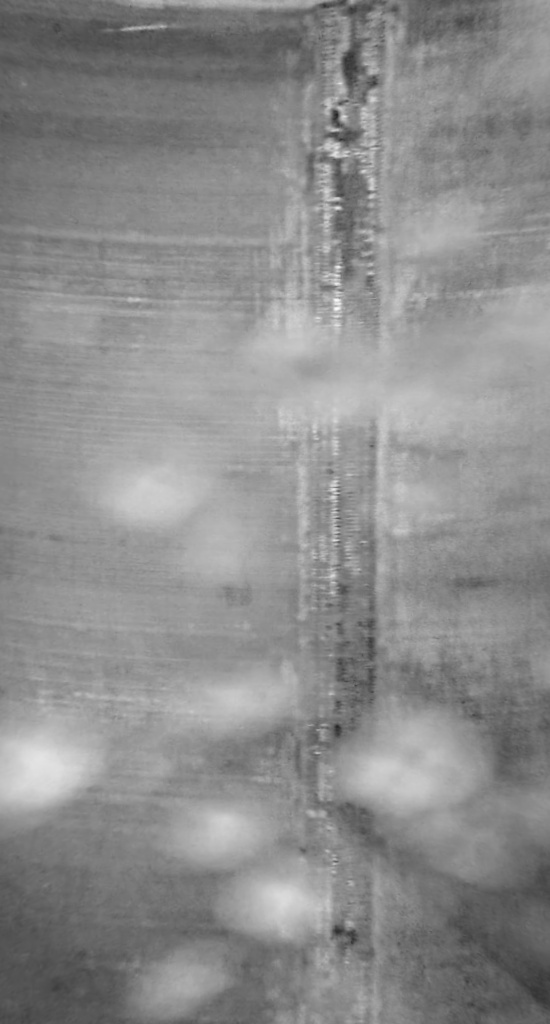splice: (296, 1, 393, 1023)
